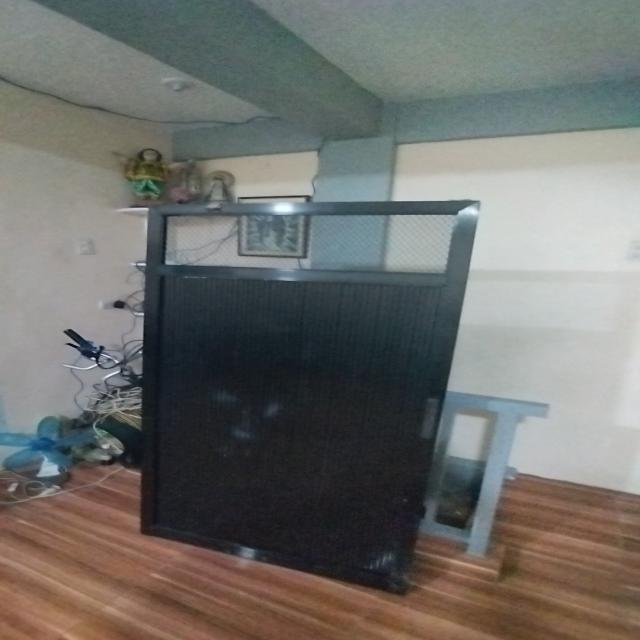door: (132, 195, 443, 579)
